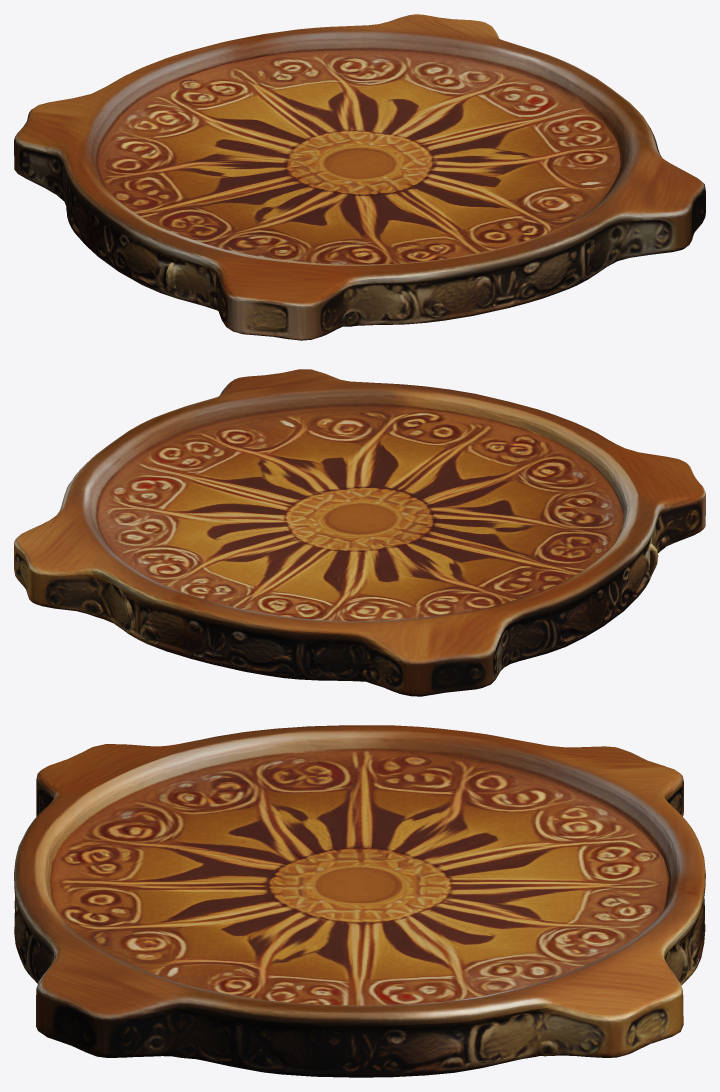
File: wooden-serving-tray-3d.jpeg.glb
3 renders of one model, top to bottom at view 1: azimuth 30°, elevation 25°; view 2: azimuth 150°, elevation 25°; view 3: azimuth 270°, elevation 25°, orthographic. The views are drawn at different scales.
Visible parts, largest first — view 1: world; view 2: world; view 3: world.
Part boxes in pixels (box(x1,y1,x2,y2)): world: box(14, 14, 705, 340); world: box(14, 369, 705, 696); world: box(14, 725, 705, 1077).
Bounding box in the file's own units: 1 × 0.1078 × 1.
1 material, 1 textured.
